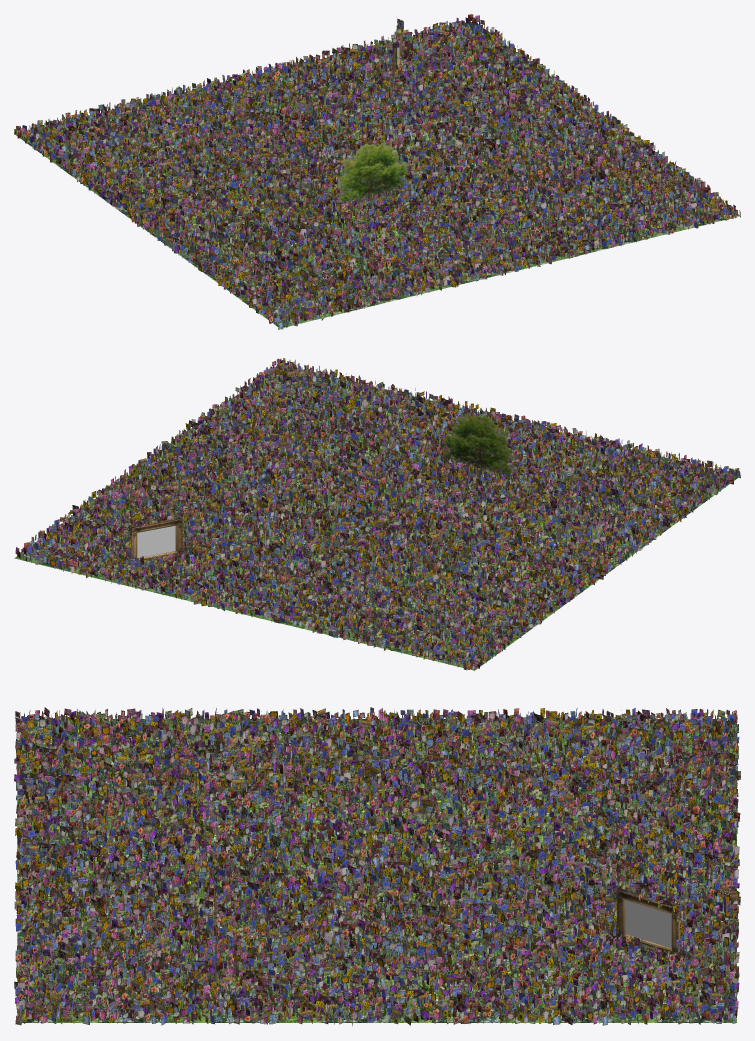
The model's file is flowerfield.glb.
3 renders of one model, top to bottom at view 1: azimuth 30°, elevation 25°; view 2: azimuth 150°, elevation 25°; view 3: azimuth 270°, elevation 25°, orthographic. The views are drawn at different scales.
Parts seen in each view (by area): view 1: ground_flowers_001, ground, tree; view 2: ground_flowers_001, ground, tree, picture_frame; view 3: ground_flowers_001, ground, picture_frame.
Part boxes in pixels (x1,y1,x2,y2): ground_flowers_001: (14,14,740,329); ground: (14,24,740,328); tree: (336,140,407,213); ground_flowers_001: (15,358,740,670); ground: (14,366,739,670); tree: (443,412,515,482); picture_frame: (127,515,185,564); ground_flowers_001: (14,707,740,1026); ground: (17,719,736,1022); picture_frame: (614,885,683,955).
Size of the model in its own units: 78.3 by 13.46 by 78.02.
8 materials, 7 textured.
